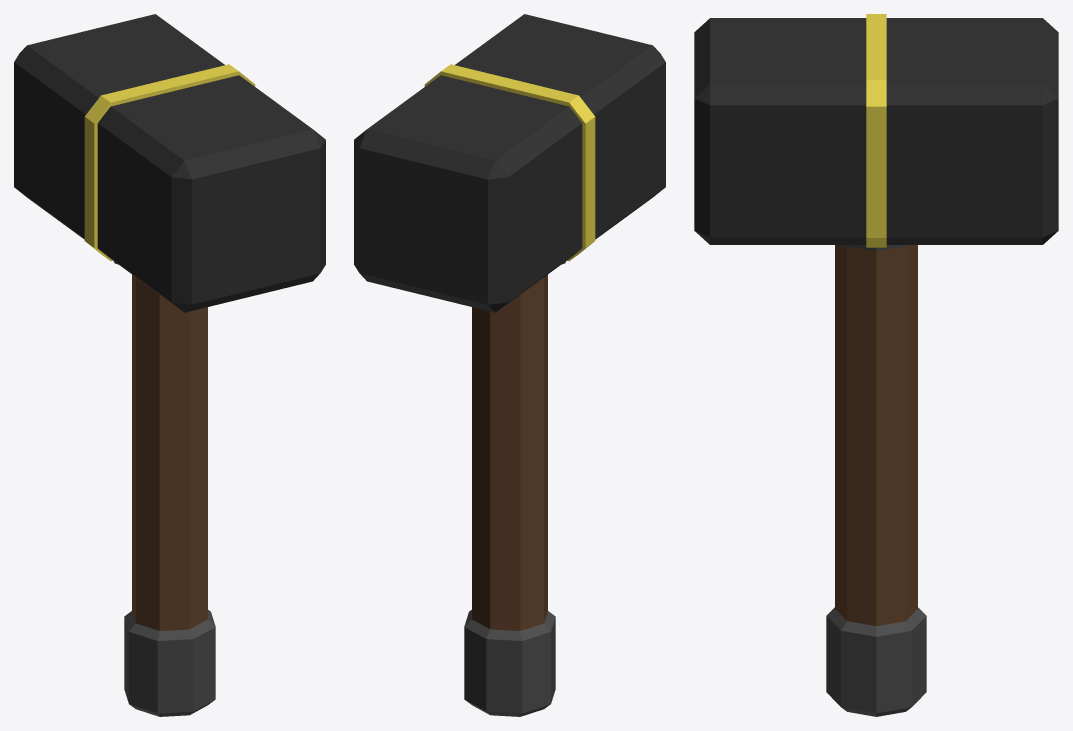
The model's file is HammerLowPoly.fbx.
The picture shows the model from 3 angles, left to right: view 1: azimuth 30°, elevation 25°; view 2: azimuth 150°, elevation 25°; view 3: azimuth 270°, elevation 25°; orthographic projection. The views are drawn at different scales.
Visible parts, largest first — view 1: Cube; view 2: Cube; view 3: Cube.
Part boxes in pixels (x1,y1,x2,y2): Cube: (14,14,325,716); Cube: (354,14,665,716); Cube: (694,14,1058,716).
Bounding box in the file's own units: 37.66 × 138 × 69.9.
